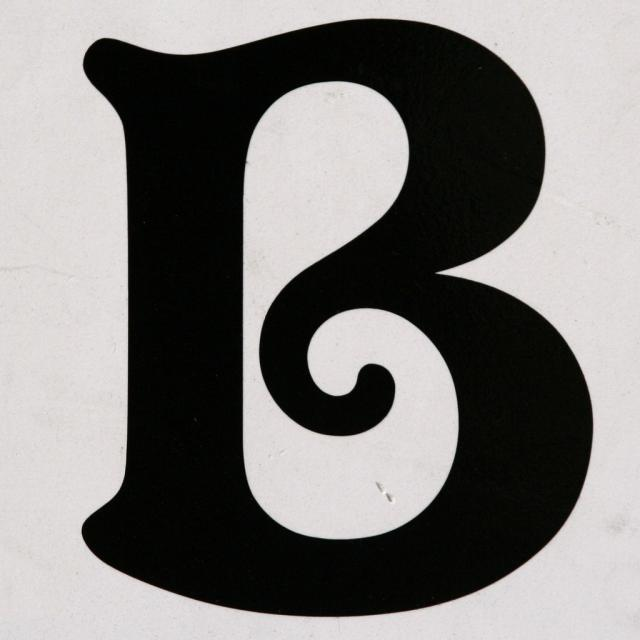B: (39, 11, 604, 625)
